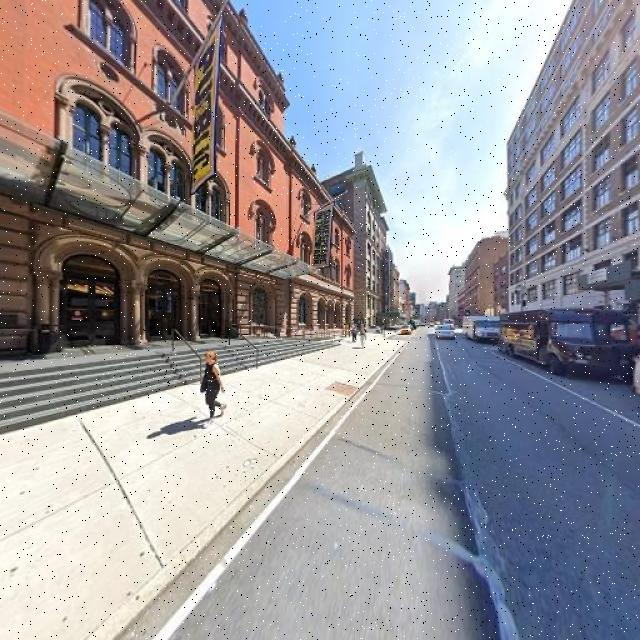Building: (1, 1, 354, 385)
